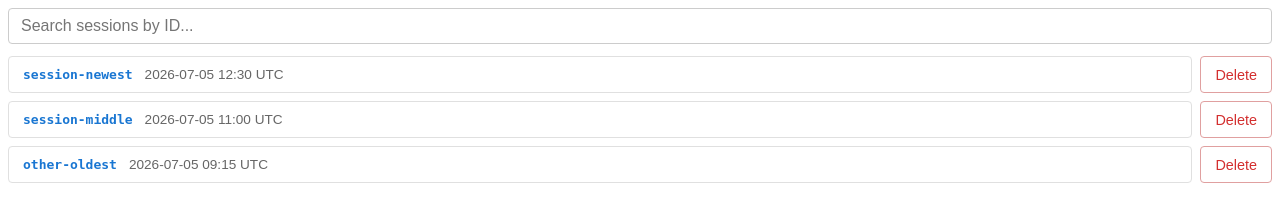
Test: SessionList › deletion (SL-AC5) › deletes after confirmation and removes the row
Click the button with aria-label "Delete session-middle".
click(1236, 120)  # box [1200,101,1272,138]
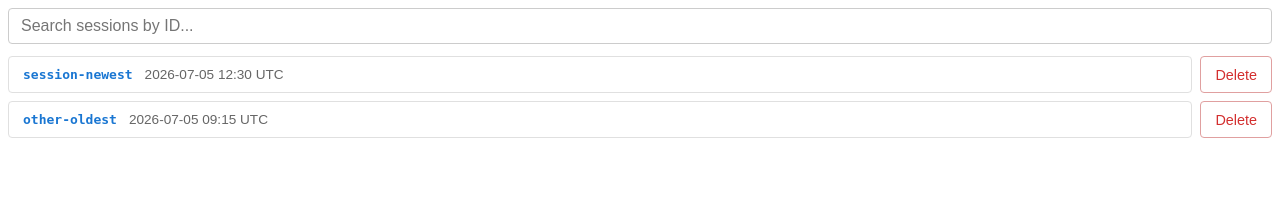
Expected: the text "session-newest" is shown, [23,67,133,82]
Expected: the button "session-middle" is gone
